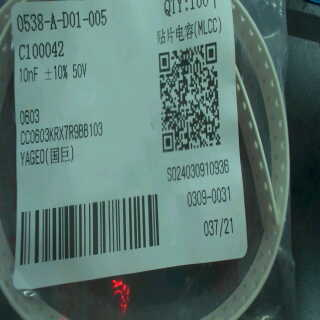10nF: (14, 64, 43, 83)
